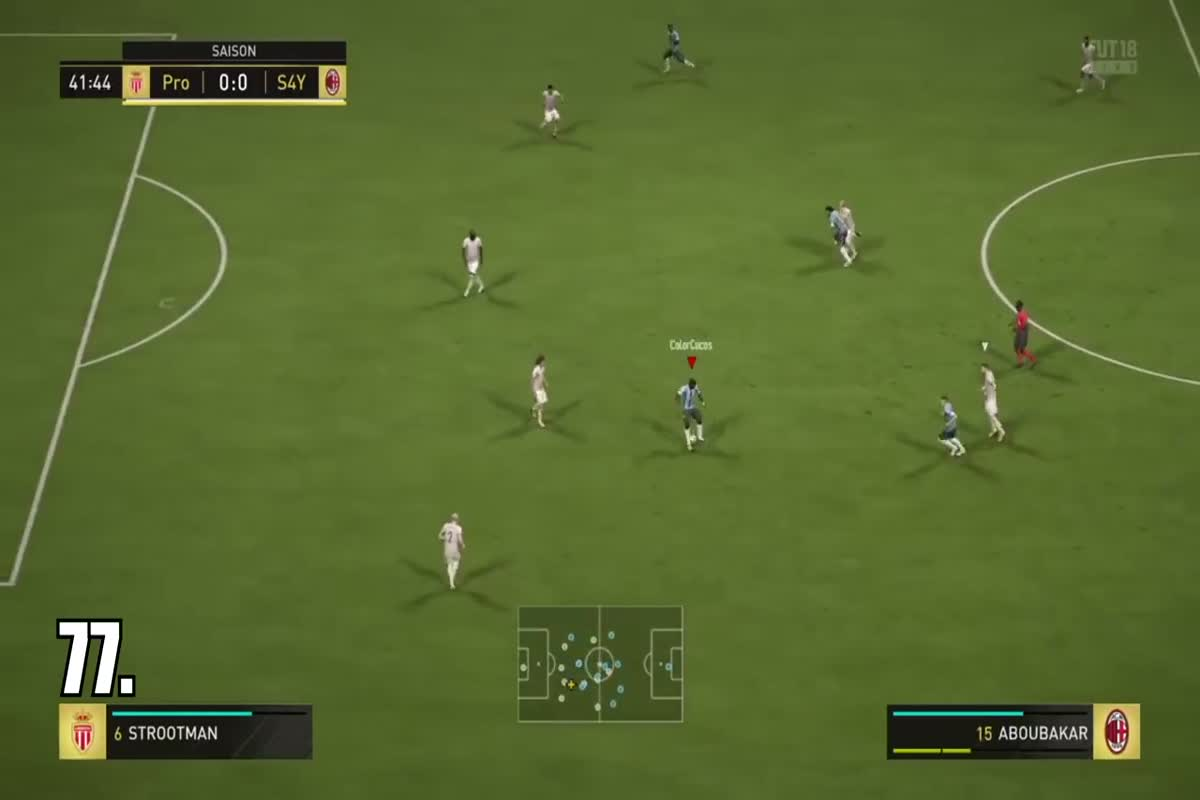ball: (687, 432, 707, 449)
